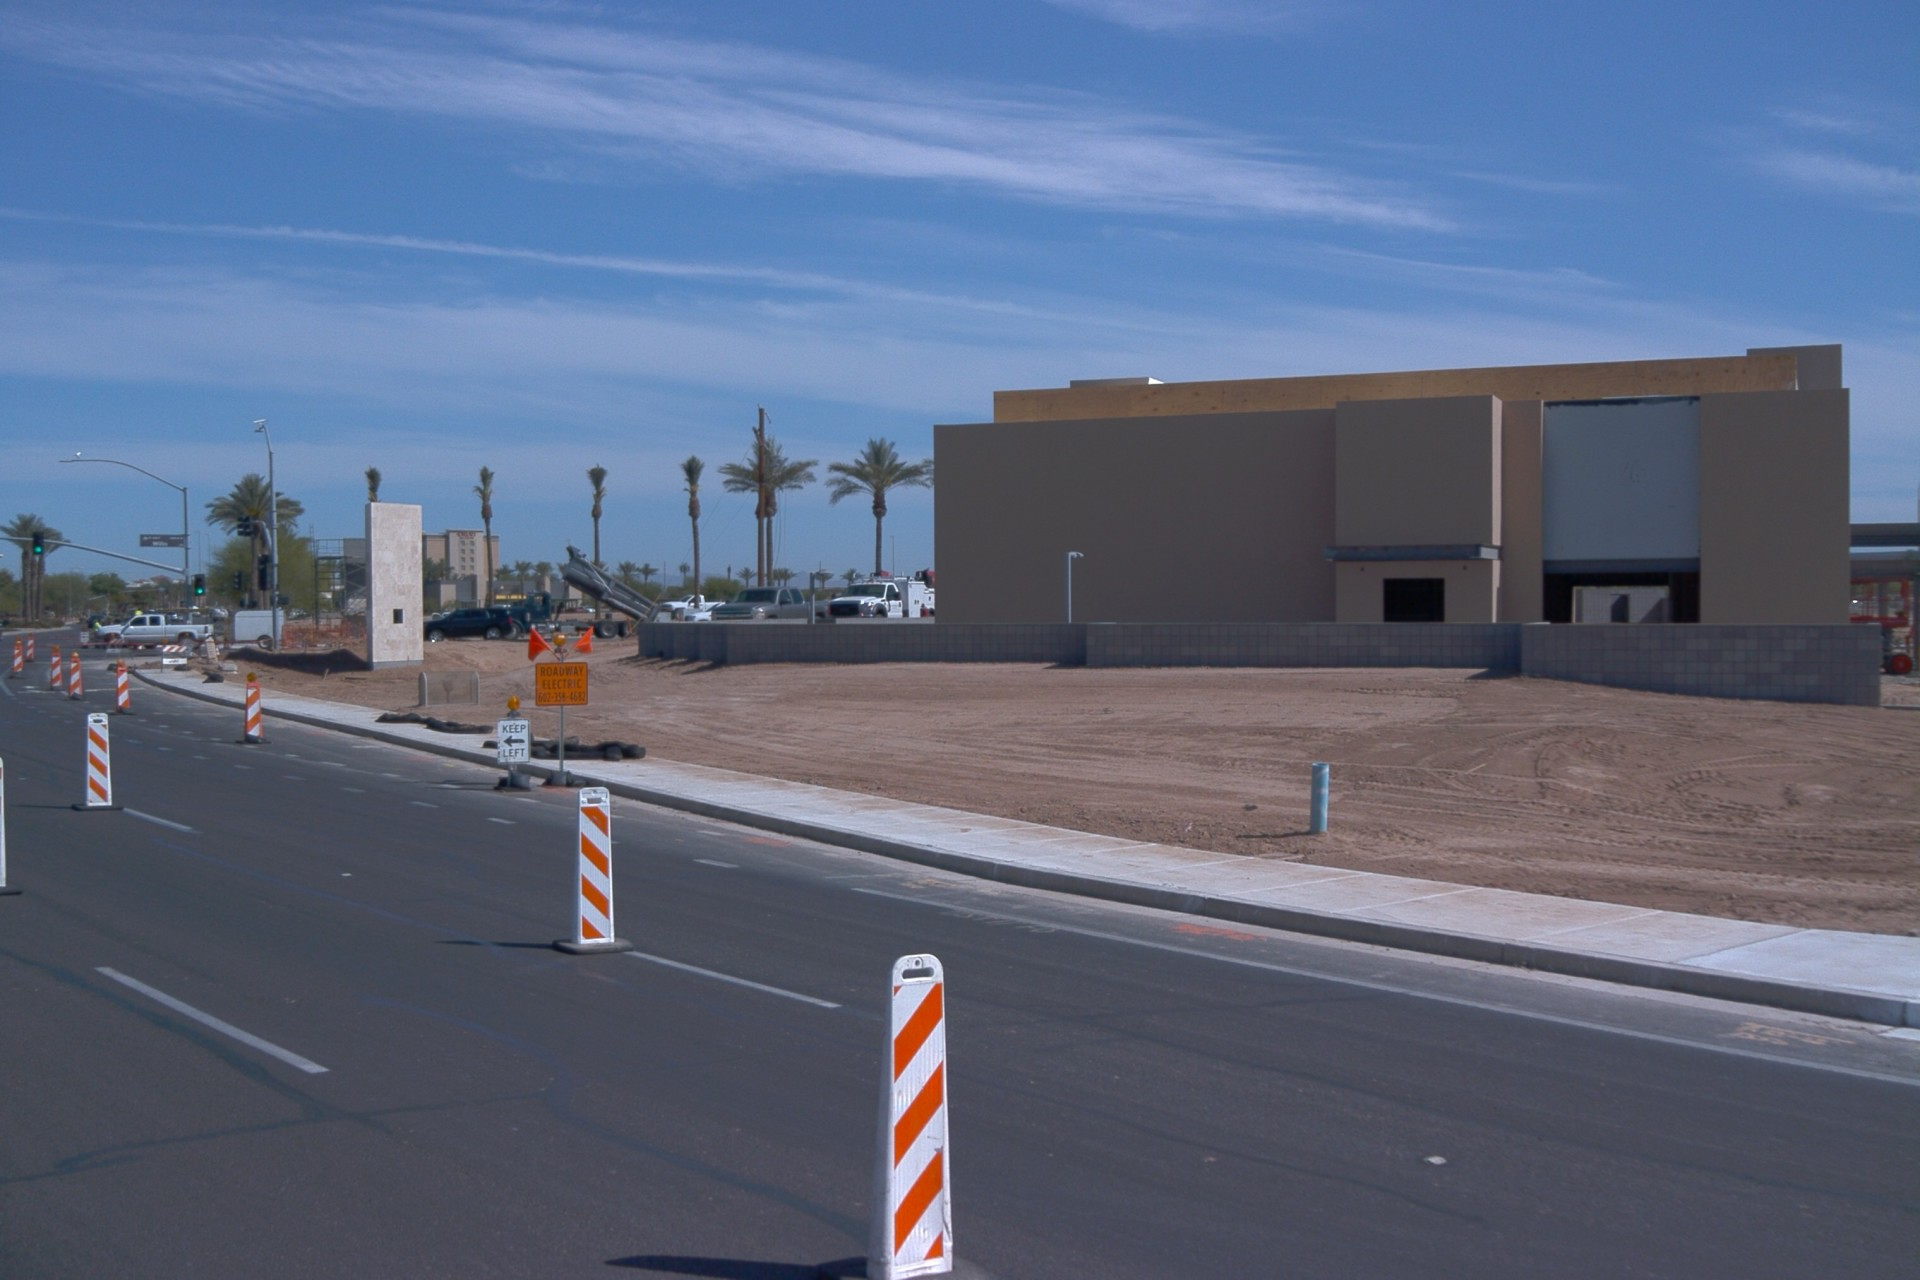TYPE_PEDESTRIAN: (92, 617, 104, 630)
TYPE_VEHICLE: (506, 543, 662, 643), (824, 566, 937, 620), (706, 578, 830, 625), (94, 614, 215, 655), (420, 605, 518, 646), (232, 613, 289, 657), (660, 591, 726, 616), (680, 603, 727, 624), (109, 602, 148, 625), (84, 617, 107, 631), (188, 607, 201, 619), (165, 612, 179, 622), (493, 605, 513, 610), (0, 627, 3, 645), (441, 614, 454, 618)
